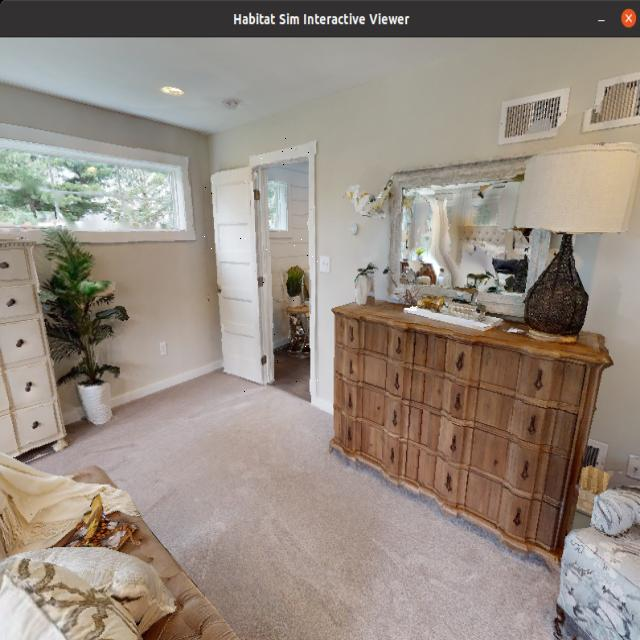door: (198, 147, 270, 400)
door-frame: (246, 137, 318, 408)
